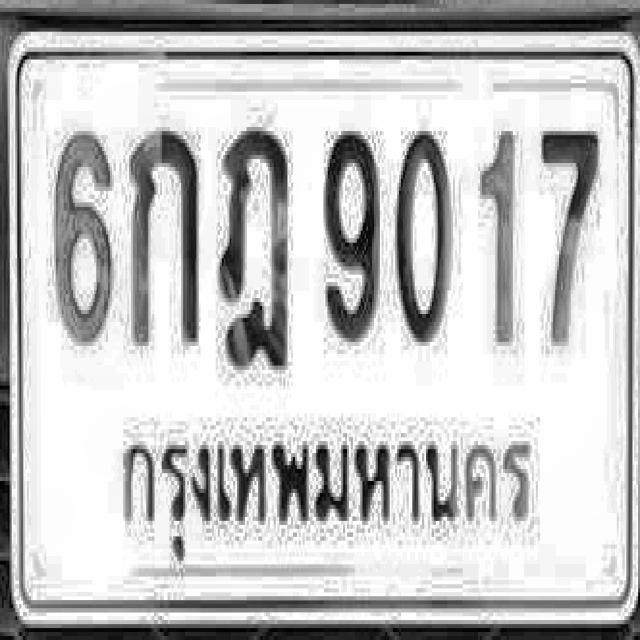license-plate: (7, 24, 640, 628)
